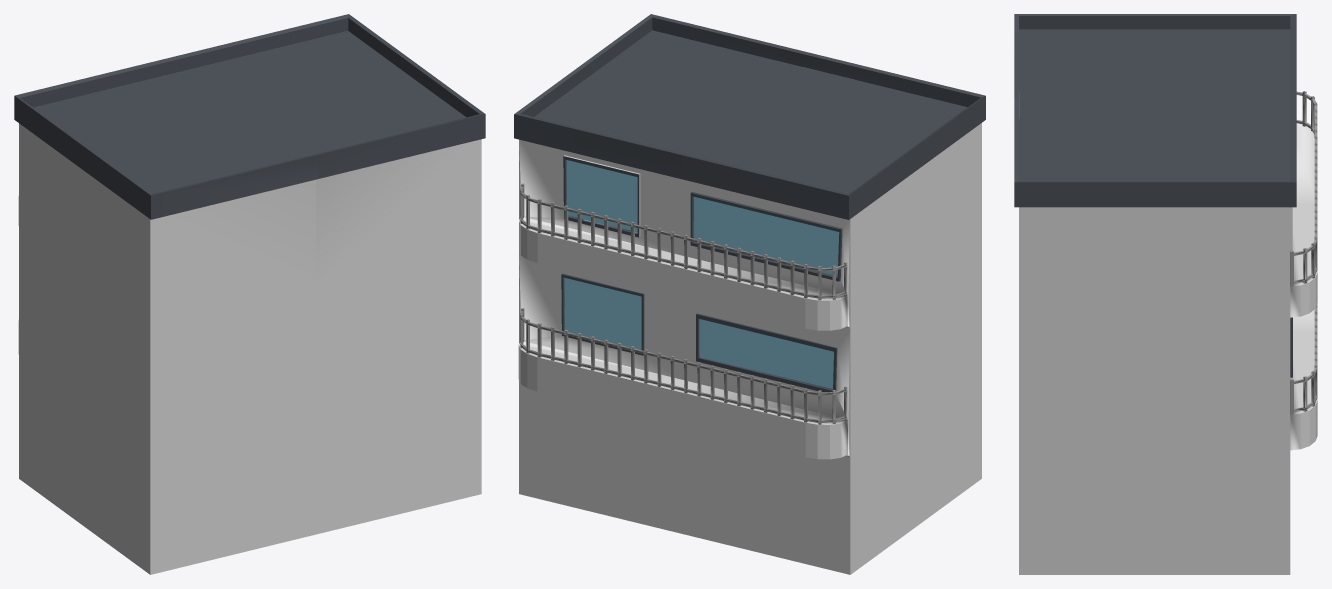
The model's file is PredioSacada.fbx.
3 renders of one model, left to right at view 1: azimuth 30°, elevation 25°; view 2: azimuth 150°, elevation 25°; view 3: azimuth 270°, elevation 25°, orthographic. The views are drawn at different scales.
Visible parts, largest first — view 1: PredioSacada; view 2: PredioSacada; view 3: PredioSacada.
Boxes of the visible parts, left/top/right/bottom form: PredioSacada: left=14, top=14, right=485, bottom=574; PredioSacada: left=514, top=14, right=985, bottom=574; PredioSacada: left=1014, top=14, right=1317, bottom=574.
Size of the model in its own units: 1618 by 1762 by 1231.
